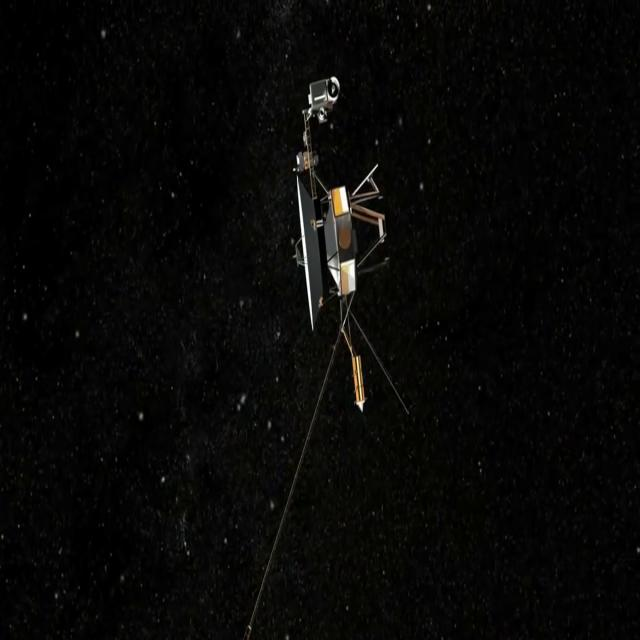satellite: (240, 0, 426, 640)
